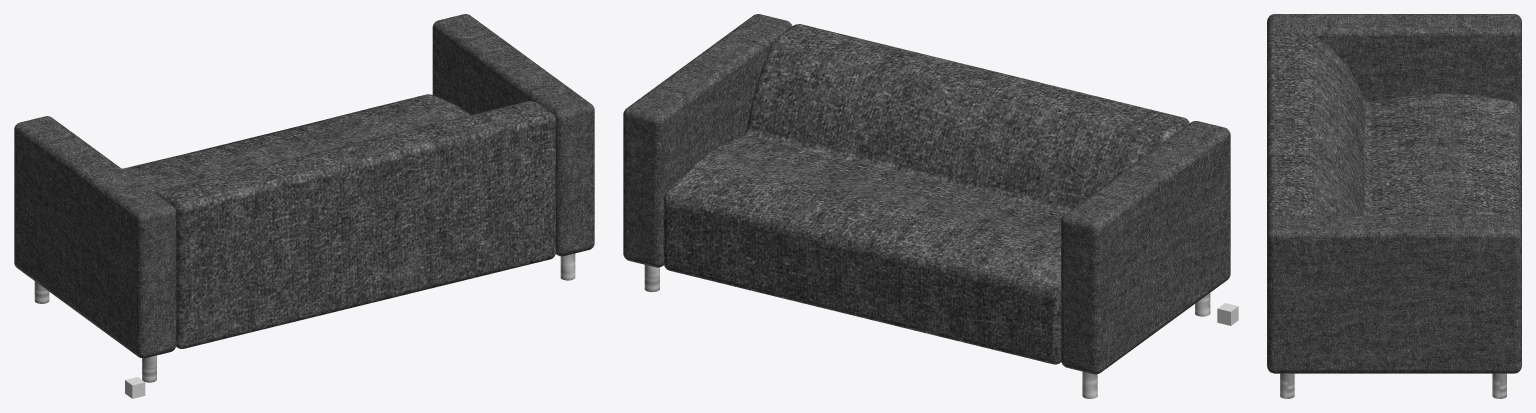
The picture shows the model from 3 angles, left to right: view 1: azimuth 30°, elevation 25°; view 2: azimuth 150°, elevation 25°; view 3: azimuth 270°, elevation 25°; orthographic projection. The views are drawn at different scales.
Parts seen in each view (by area): view 1: 0fa35b32-195f-494f-a729-855cdff81c26; view 2: 0fa35b32-195f-494f-a729-855cdff81c26; view 3: 0fa35b32-195f-494f-a729-855cdff81c26.
Boxes of the visible parts, <box> form: 0fa35b32-195f-494f-a729-855cdff81c26: <box>14,14,594,382</box>; 0fa35b32-195f-494f-a729-855cdff81c26: <box>623,14,1230,398</box>; 0fa35b32-195f-494f-a729-855cdff81c26: <box>1267,14,1521,398</box>.
Size of the model in its own units: 71.88 by 27 by 34.63.
Materials: 3 (2 with a texture image).
